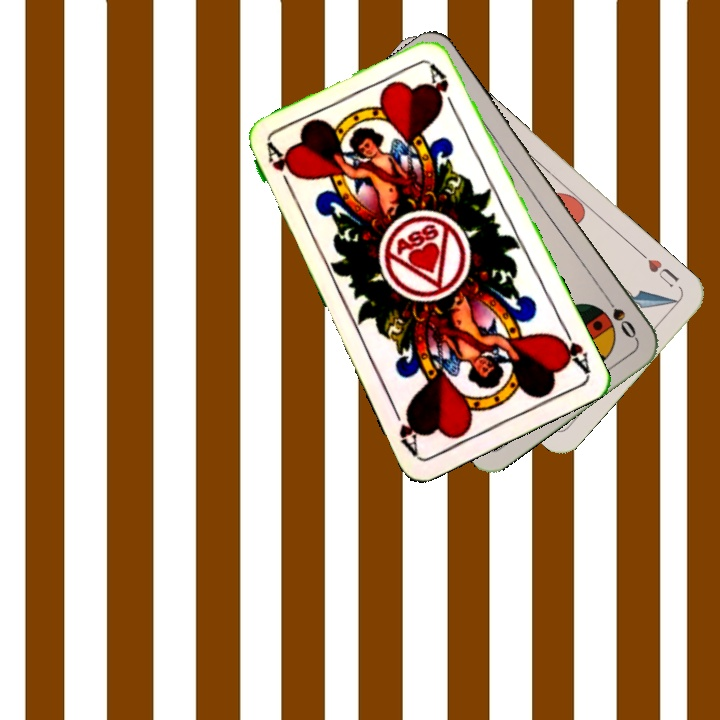HA: (551, 320, 593, 376), (262, 139, 297, 196)
HU: (635, 247, 682, 290)
SO: (600, 290, 640, 341)
